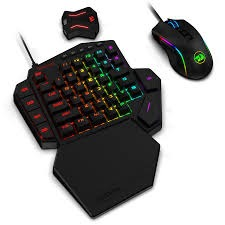keyboard: (10, 39, 147, 143)
mouse: (151, 13, 215, 82)
